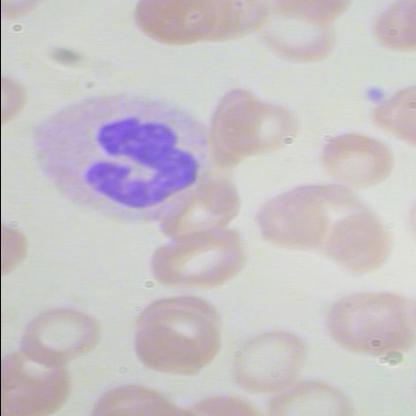Platelets: (361, 77, 387, 107)
RBC: (146, 225, 244, 294), (158, 178, 256, 247), (240, 0, 338, 68), (204, 91, 300, 159), (236, 186, 332, 254), (15, 294, 100, 368), (314, 206, 402, 274), (318, 291, 399, 358), (228, 327, 309, 393), (119, 320, 211, 378), (312, 127, 393, 192), (119, 0, 216, 52)
WBC: (25, 86, 209, 234)
